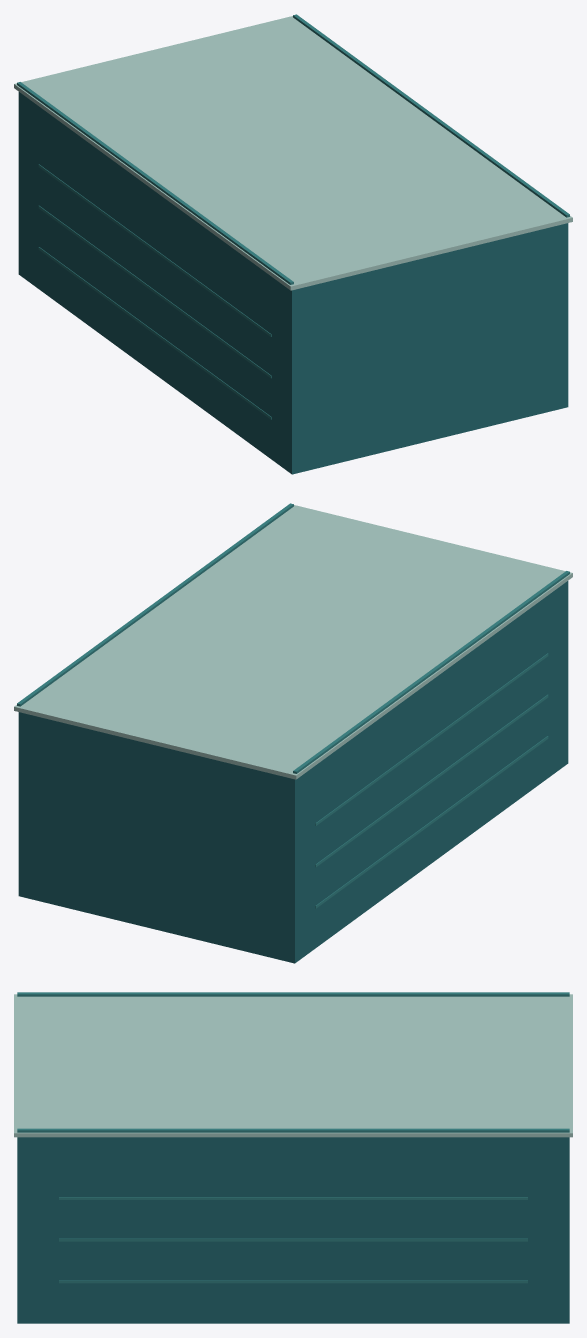
File: roof_raised.glb
3 renders of one model, top to bottom at view 1: azimuth 30°, elevation 25°; view 2: azimuth 150°, elevation 25°; view 3: azimuth 270°, elevation 25°, orthographic.
Parts seen in each view (by area): view 1: roof_raised; view 2: roof_raised; view 3: roof_raised.
Part boxes in pixels (x1,y1,x2,y2): roof_raised: [14, 14, 572, 474]; roof_raised: [14, 503, 572, 963]; roof_raised: [14, 992, 572, 1323].
Bounding box in the file's own units: 14.3 × 9.31 × 24.3.
